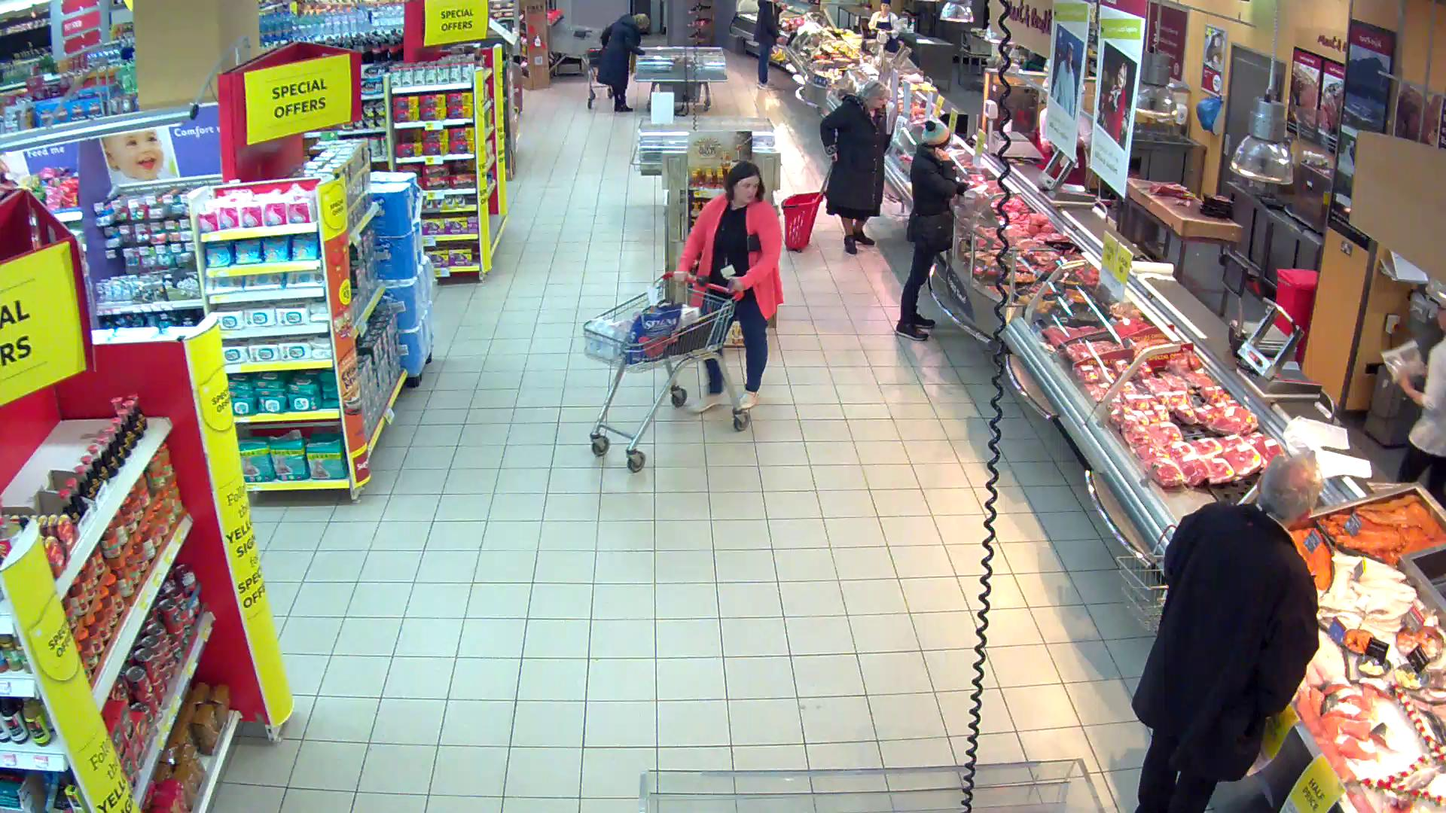filled-trolly: (583, 270, 751, 472), (781, 191, 823, 251)
person: (675, 162, 784, 412), (821, 80, 888, 254)
person-with-filled-basket-trolly: (584, 161, 783, 472), (781, 79, 888, 255)
